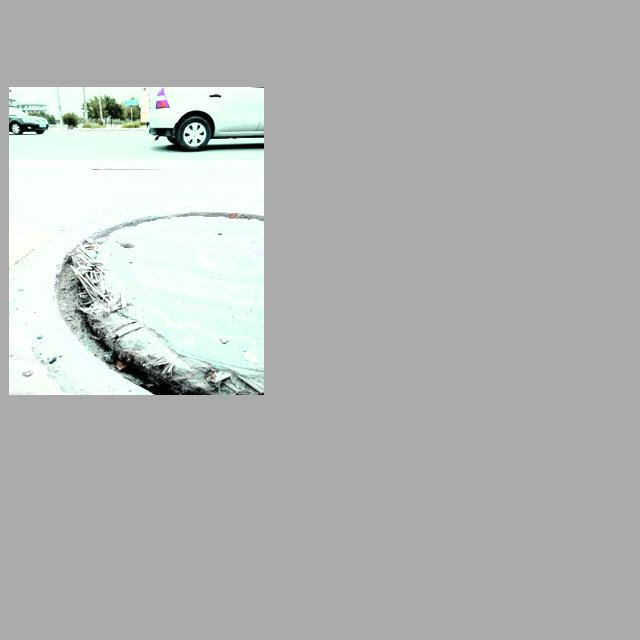circle: (23, 201, 259, 389)
